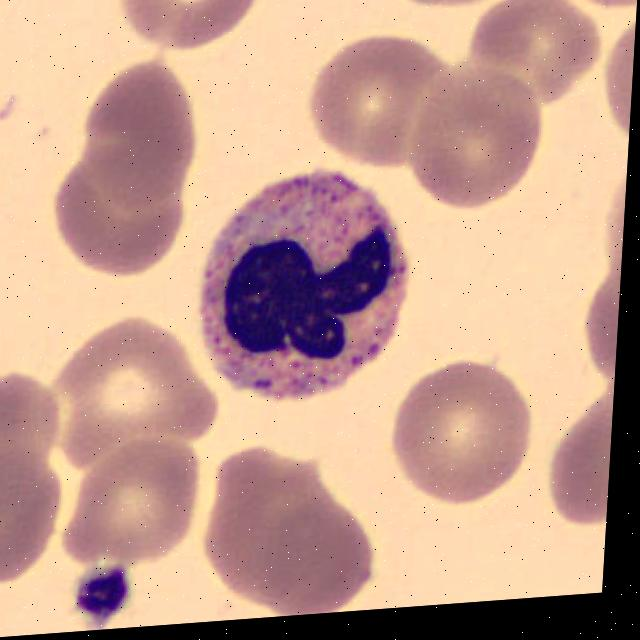neutrophil: (196, 152, 417, 414)
platelets: (67, 566, 145, 632)
rbc: (48, 307, 227, 477), (28, 141, 185, 290), (386, 356, 537, 509), (75, 51, 210, 220), (194, 443, 337, 602), (403, 57, 543, 217), (51, 438, 197, 578), (302, 38, 447, 162), (464, 0, 614, 113), (251, 501, 388, 619), (0, 357, 69, 519), (542, 390, 614, 543), (113, 0, 266, 56), (0, 461, 59, 606), (566, 279, 621, 392), (592, 22, 636, 149), (377, 0, 524, 21), (561, 0, 639, 20)
